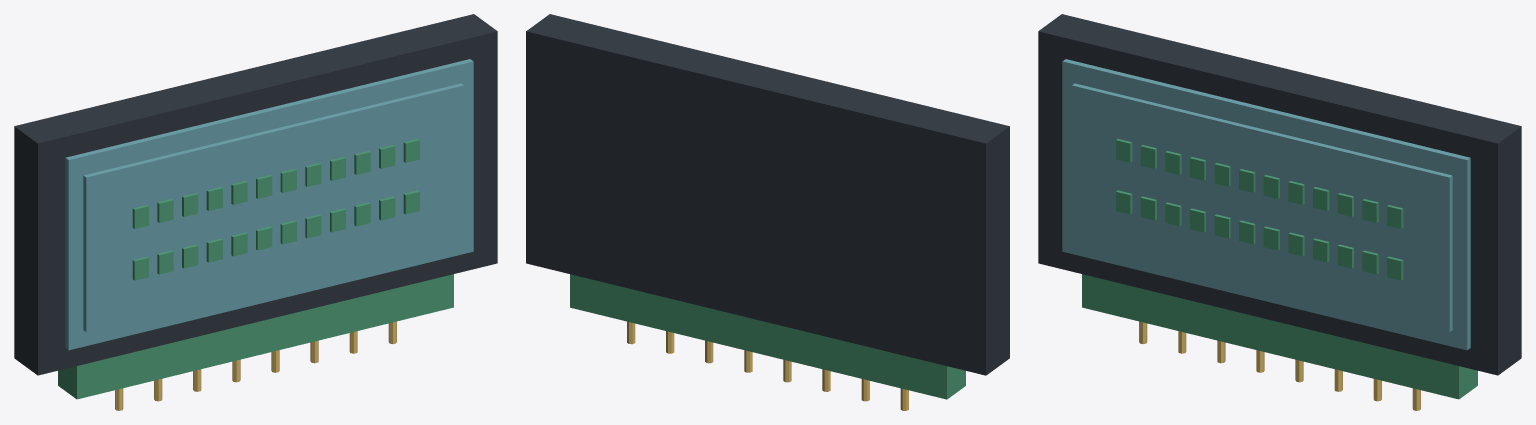
File: product-17.glb
3 views of the same model, side by side, from view 1: azimuth 30°, elevation 25°; view 2: azimuth 150°, elevation 25°; view 3: azimuth 330°, elevation 25° (orthographic).
Parts seen in each view (by area): view 1: product-17; view 2: product-17; view 3: product-17.
Part boxes in pixels (x1,y1,x2,y2): product-17: (14, 14, 497, 410); product-17: (526, 14, 1009, 410); product-17: (1038, 14, 1521, 410).
Size of the model in its own units: 1.12 by 0.6912 by 0.14.
